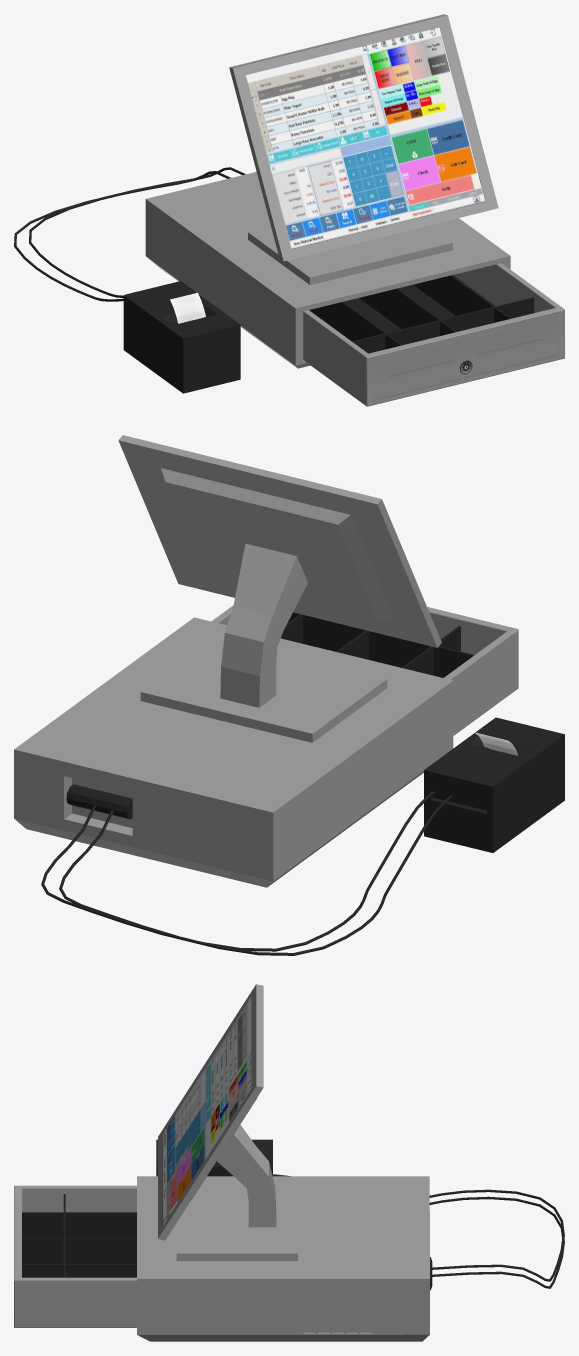
File: Cash register.fbx
3 views of the same model, one above another, from view 1: azimuth 30°, elevation 25°; view 2: azimuth 150°, elevation 25°; view 3: azimuth 270°, elevation 25° (orthographic). The views are drawn at different scales.
Visible parts, largest first — view 1: cash register, drawer; view 2: cash register, drawer; view 3: cash register, drawer.
Boxes of the visible parts, <box> form: cash register: <box>14,14,510,393</box>; drawer: <box>303,263,564,406</box>; cash register: <box>14,435,564,955</box>; drawer: <box>211,605,518,735</box>; cash register: <box>137,984,564,1341</box>; drawer: <box>14,1185,136,1327</box>.
Bounding box in the file's own units: 44.31 × 35.17 × 68.09.
Materials: 1 (1 with a texture image).
